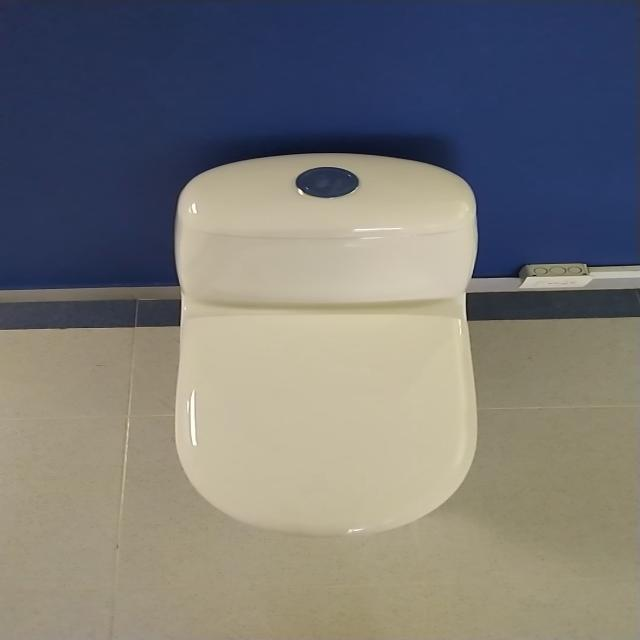toilet: (172, 152, 479, 536)
